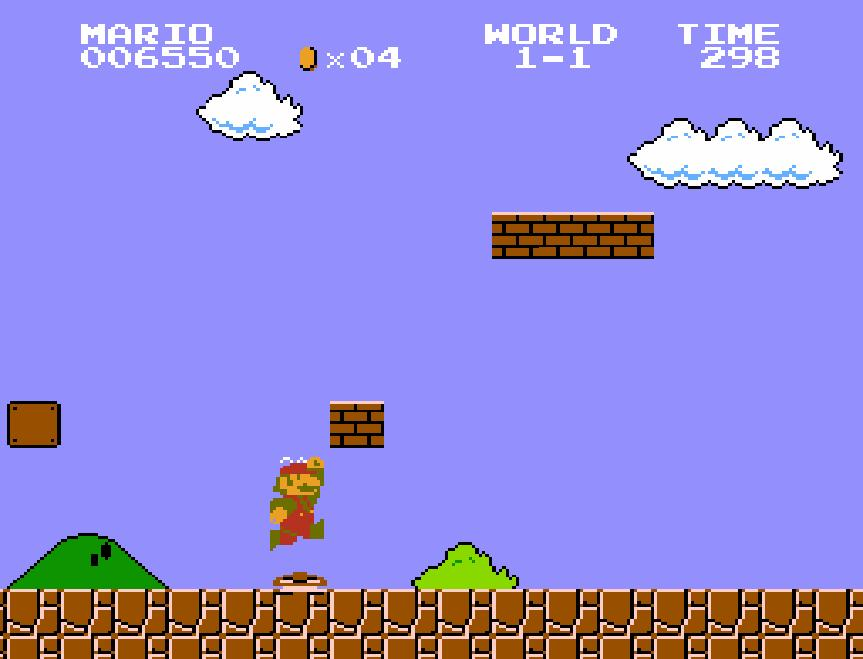big_mario: (267, 455, 325, 553)
